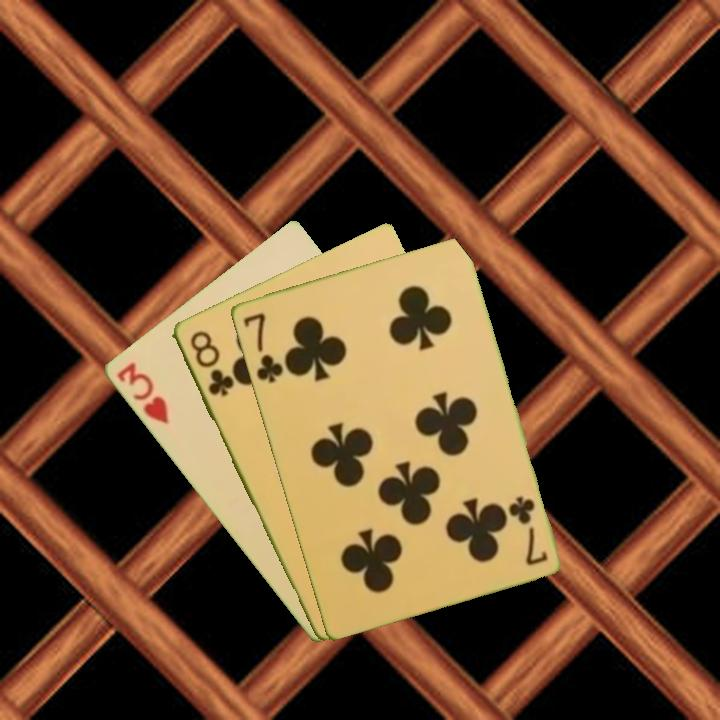3h: (112, 358, 171, 428)
7c: (239, 309, 286, 386), (505, 492, 550, 568)
8c: (186, 327, 236, 399)
